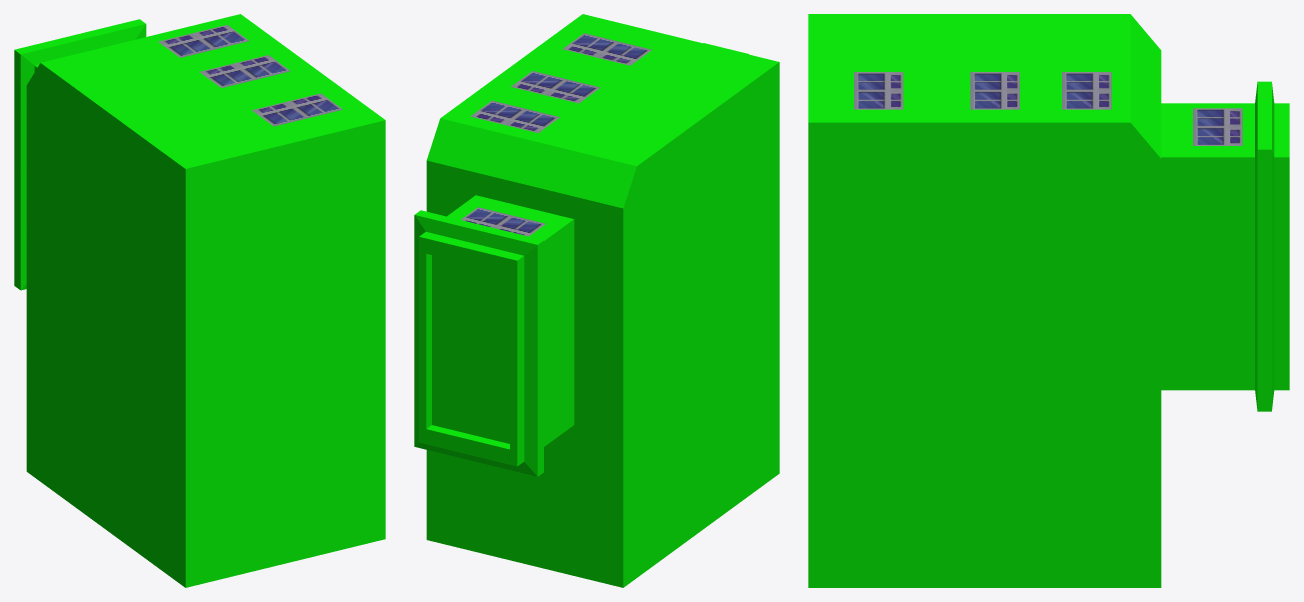
The model's file is building_3s_01.FBX.
3 renders of one model, left to right at view 1: azimuth 30°, elevation 25°; view 2: azimuth 150°, elevation 25°; view 3: azimuth 270°, elevation 25°, orthographic. The views are drawn at different scales.
Visible parts, largest first — view 1: building_3s_01; view 2: building_3s_01; view 3: building_3s_01.
Boxes of the visible parts, left/top/right/bottom form: building_3s_01: left=14, top=14, right=385, bottom=587; building_3s_01: left=414, top=14, right=779, bottom=587; building_3s_01: left=808, top=14, right=1289, bottom=587.
Bounding box in the file's own units: 8 × 16.03 × 15.
